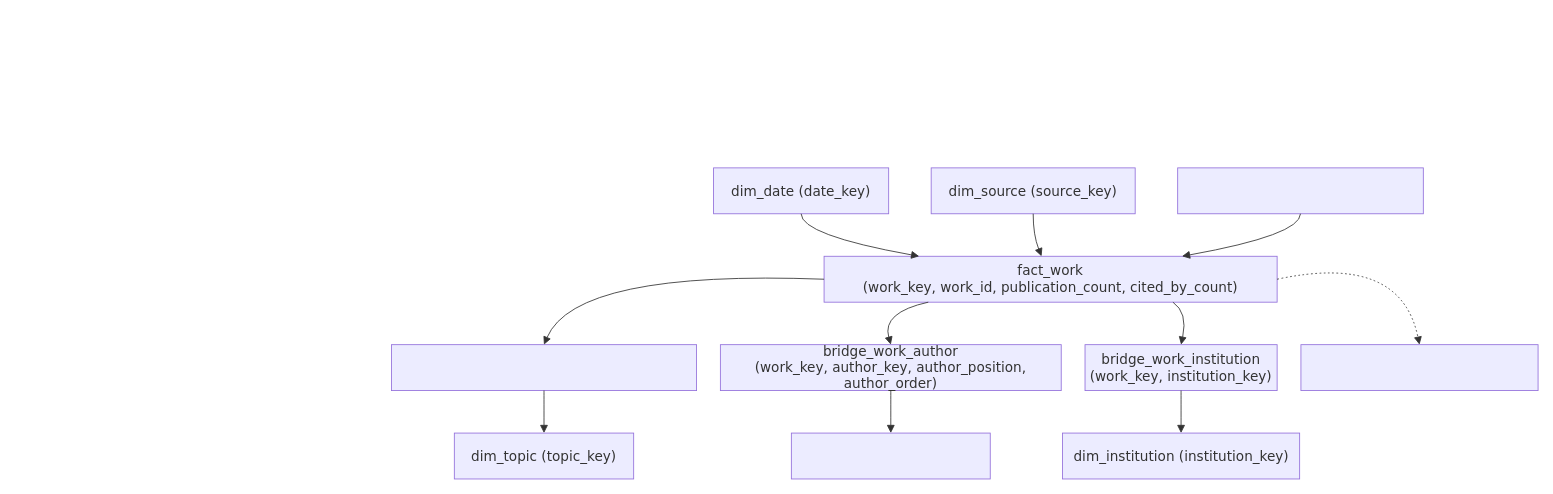
Image size: 1553x494. Some labels were removed from this diagram. Here are the shapes that lost their labels. From the top down, the centre of each, then its label:
the point at 1300,190: dim_work_type (work_type_key)
the point at 544,367: bridge_work_topic (work_key, topic_key, topic_score, is_primary)
the point at 1419,367: bridge_work_citation (citing_work_key, cited_work_key) (Factless Bridge)
the point at 890,455: dim_author (author_key)
